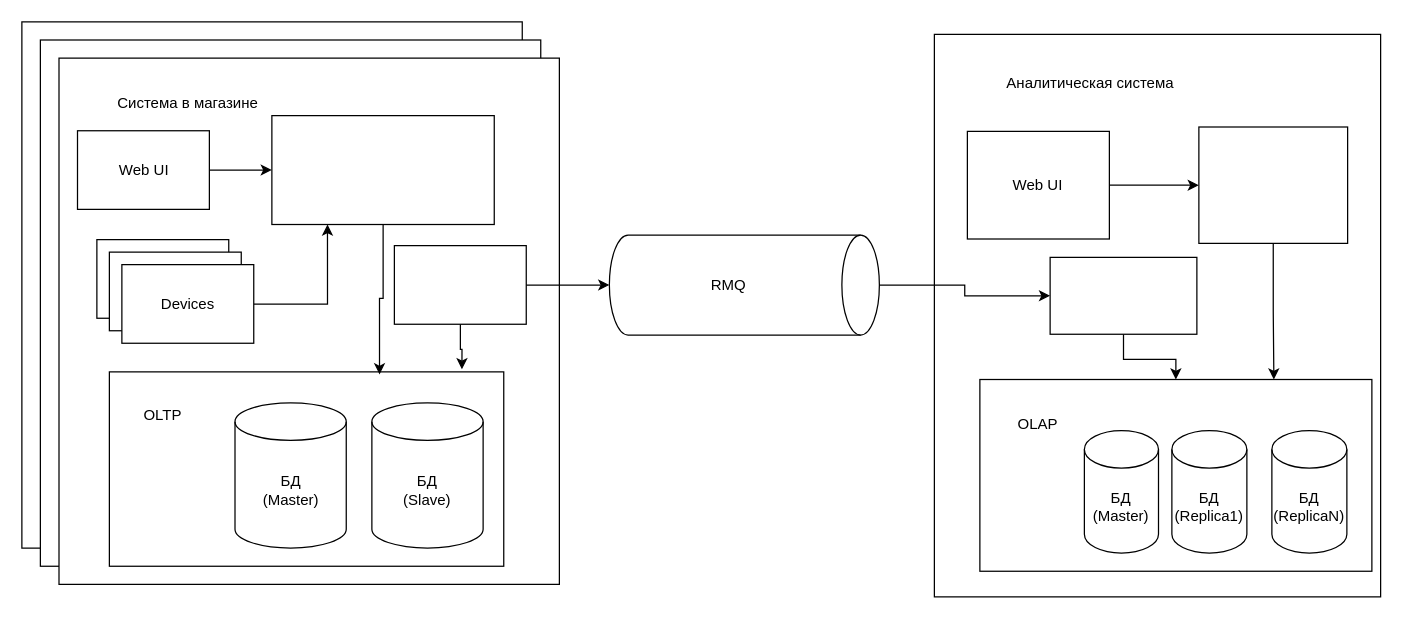
Some shapes in this 1403 by 619 pixel diagram are drawn without their labels. The shapes that lost their labels are listed below. From the top down, each one's box as (x1, y1, x2, y2) in pixels, then its label:
(271, 114, 494, 224): API сервиса задач сотрудников
(1198, 126, 1348, 243): Web API
(393, 244, 526, 324): Background Worker (Outbox)
(1049, 256, 1197, 334): Background Worker (Inbox)
